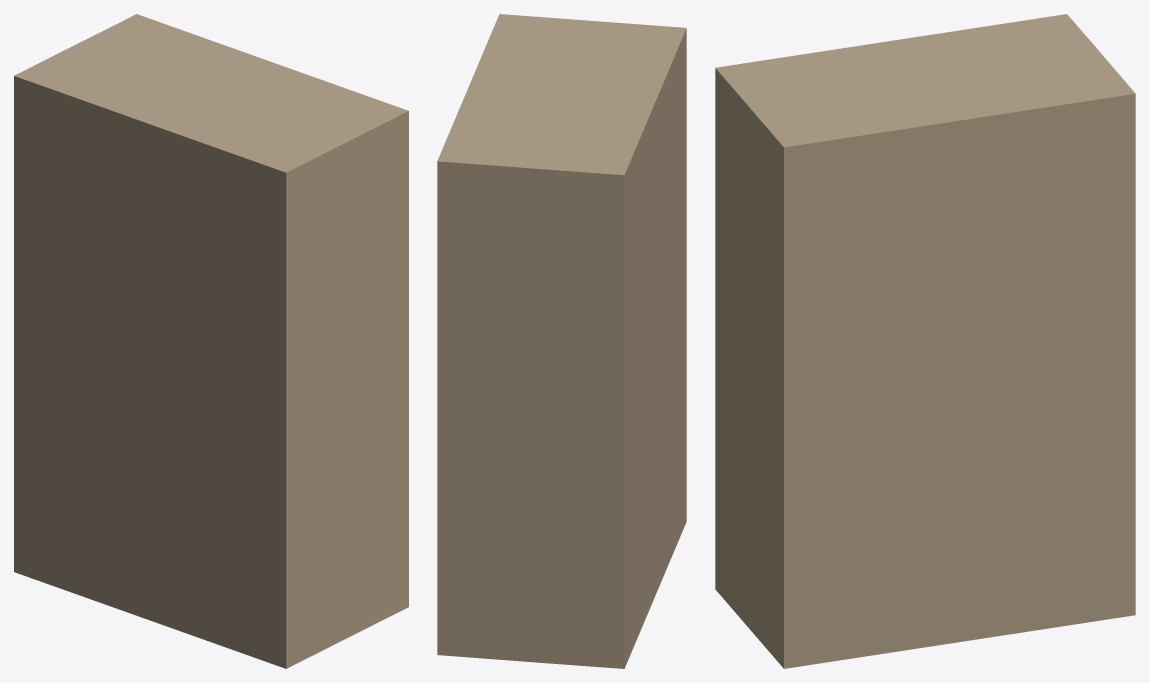
Rendered from bld_107639103.dae.
The picture shows the model from 3 angles, left to right: view 1: azimuth 30°, elevation 25°; view 2: azimuth 150°, elevation 25°; view 3: azimuth 270°, elevation 25°; orthographic projection. The views are drawn at different scales.
Visible parts, largest first — view 1: bld_107639103; view 2: bld_107639103; view 3: bld_107639103.
Part boxes in pixels (bbox=[...]): bld_107639103: bbox=[14, 14, 408, 668]; bld_107639103: bbox=[437, 14, 686, 668]; bld_107639103: bbox=[715, 14, 1135, 668].
Size of the model in its own units: 4.39 by 5.85 by 8.
